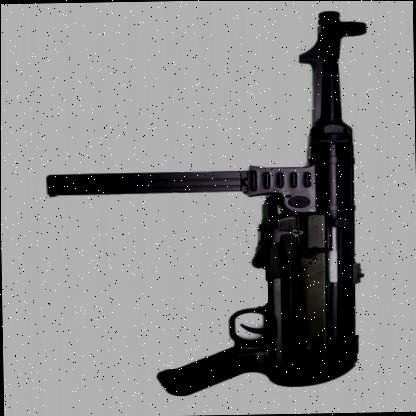rifle: (30, 5, 387, 402)
